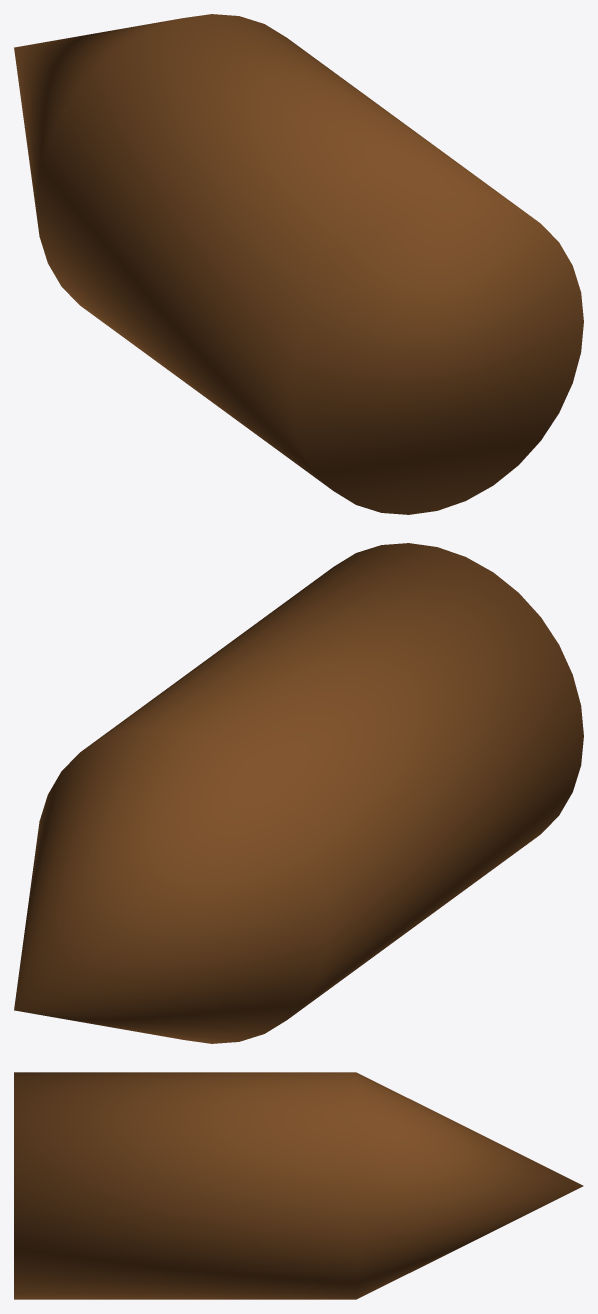
Rendered from Bala.fbx.
3 renders of one model, top to bottom at view 1: azimuth 30°, elevation 25°; view 2: azimuth 150°, elevation 25°; view 3: azimuth 270°, elevation 25°, orthographic. The views are drawn at different scales.
Parts seen in each view (by area): view 1: Bala; view 2: Bala; view 3: Bala.
Part boxes in pixels (<box>): Bala: <box>14,14,583,514</box>; Bala: <box>14,543,583,1043</box>; Bala: <box>14,1072,583,1299</box>.
Bounding box in the file's own units: 53.63 × 53.63 × 134.
